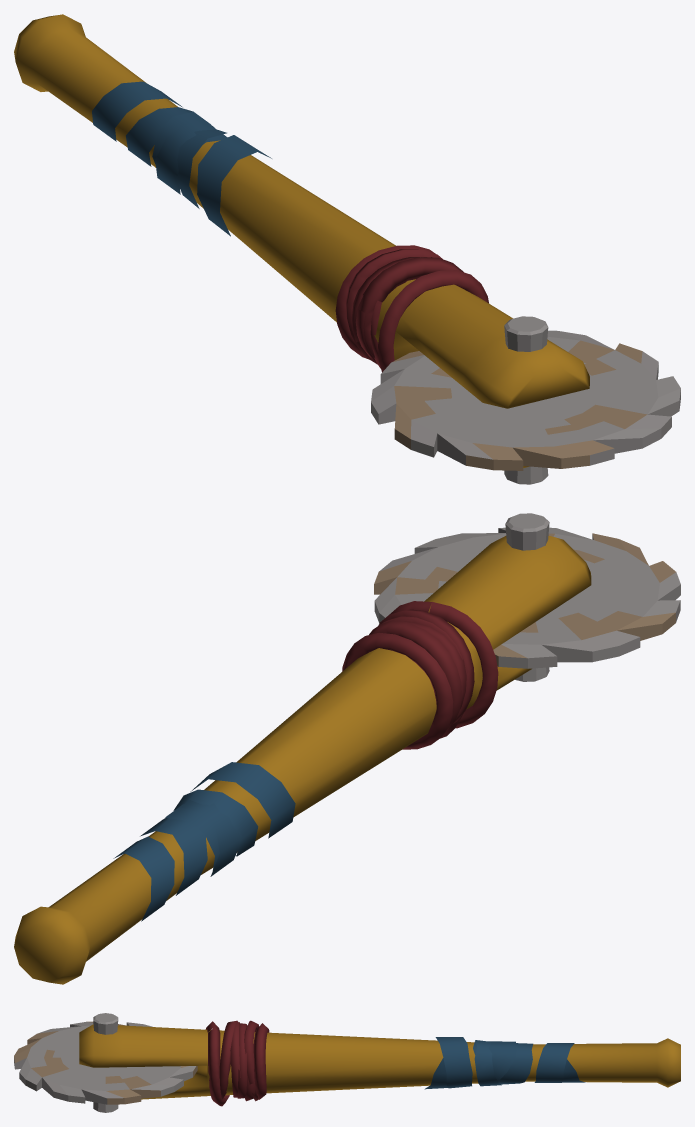
File: Wooden Bat Saw.glb
3 renders of one model, top to bottom at view 1: azimuth 30°, elevation 25°; view 2: azimuth 150°, elevation 25°; view 3: azimuth 270°, elevation 25°, orthographic. The views are drawn at different scales.
Parts seen in each view (by area): view 1: WoodenBat_Saw; view 2: WoodenBat_Saw; view 3: WoodenBat_Saw.
Boxes of the visible parts, x1,y1,x2,y2 form: WoodenBat_Saw: (14, 14, 680, 484); WoodenBat_Saw: (14, 513, 680, 984); WoodenBat_Saw: (14, 1013, 680, 1112).
Size of the model in its own units: 0.3756 by 0.2056 by 1.37.
1 material, 1 textured.
